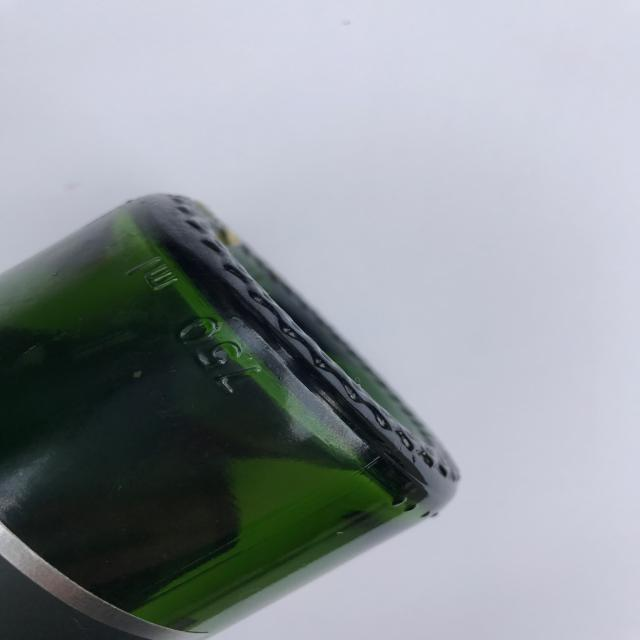glass: (1, 192, 462, 638)
